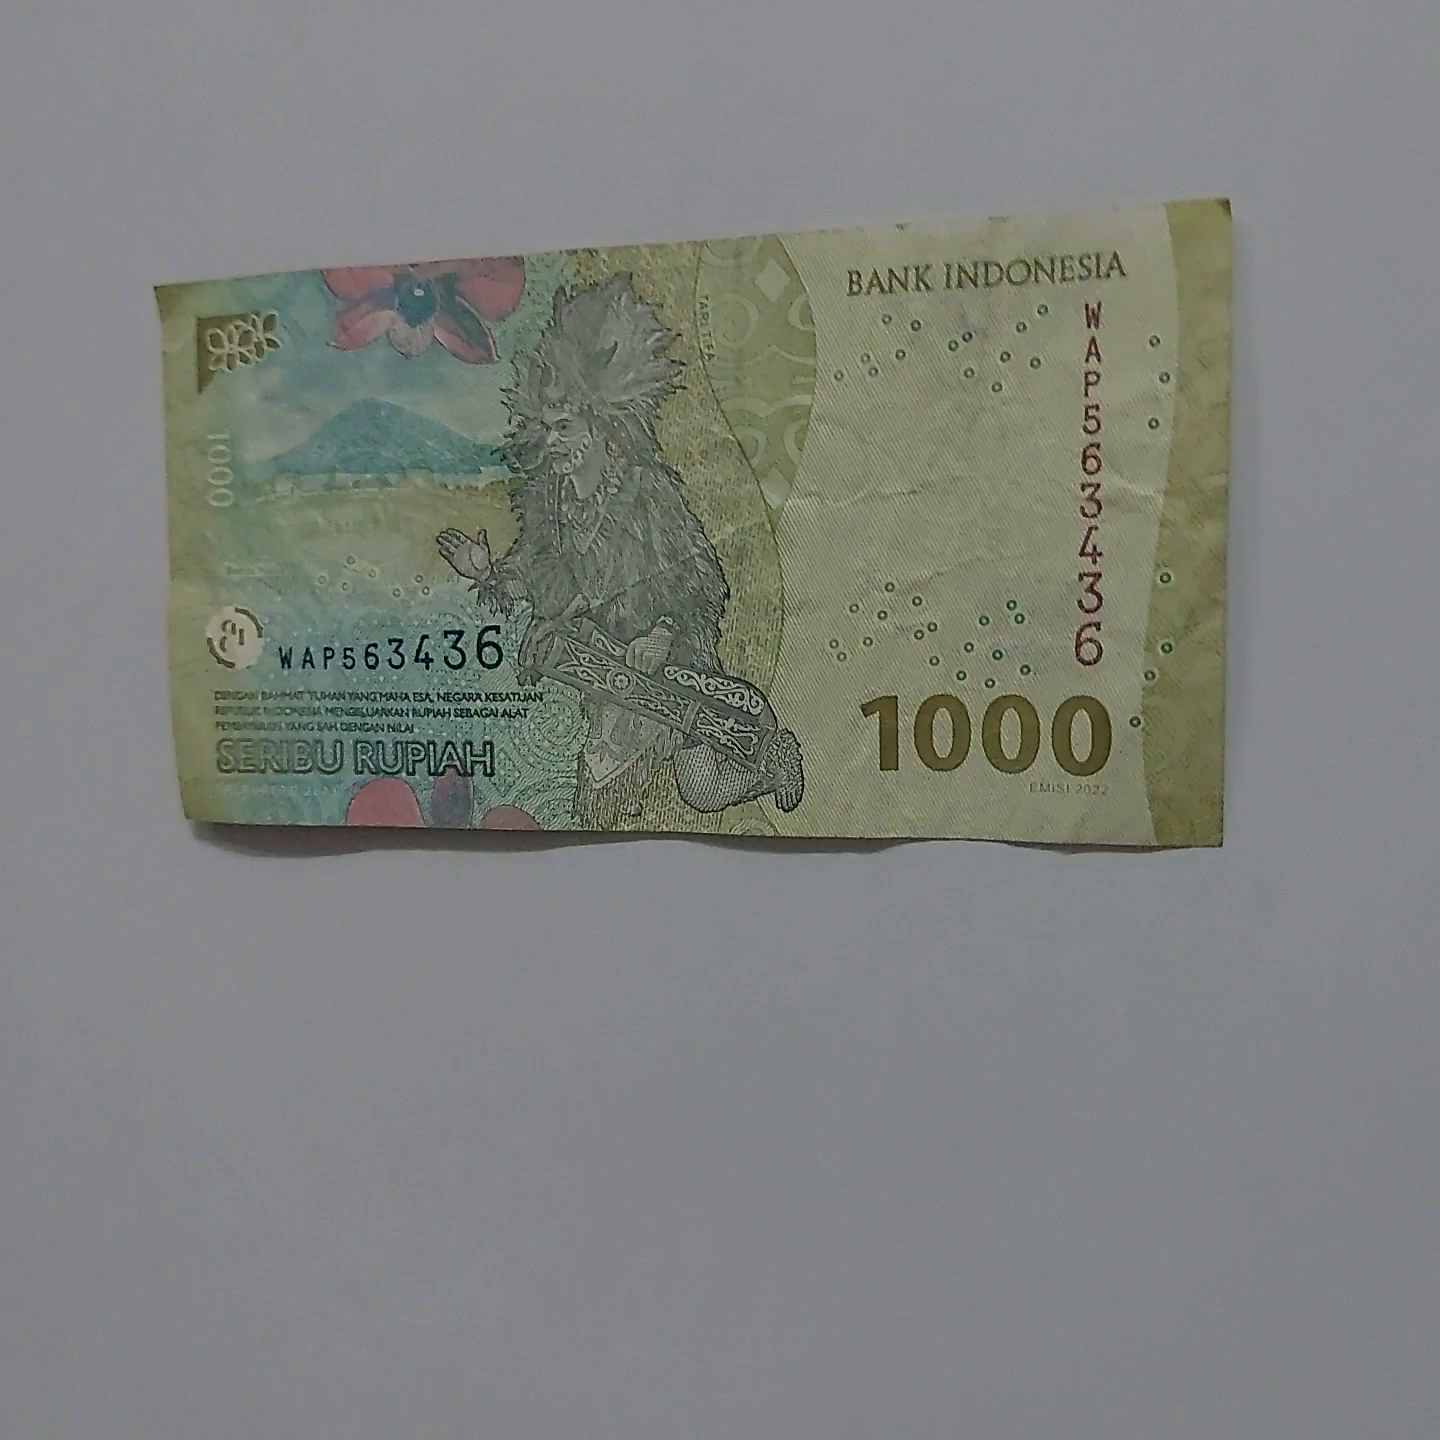1k: (120, 187, 1267, 853)
